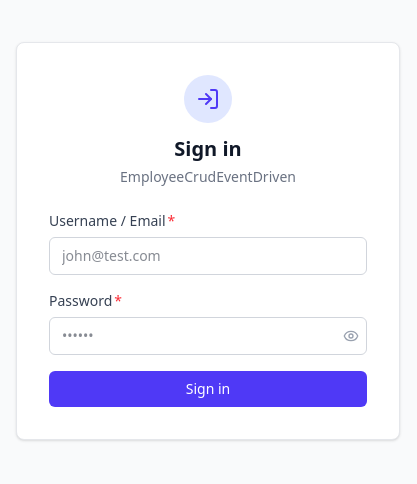
Scenario: LoginPage › shows error on invalid credentials
Type "wrong@test.com" into the field with placeholder "john@test.com".
click(208, 256); type("wrong@test.com")  # box [49,237,367,275]
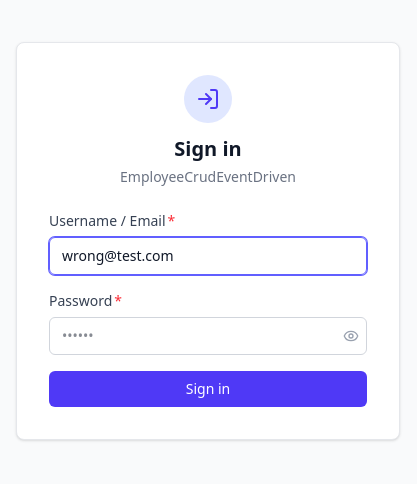
Type "wrongpass" into the password field with placeholder "••••••".
click(208, 336); type("wrongpass")  # box [49,317,367,355]
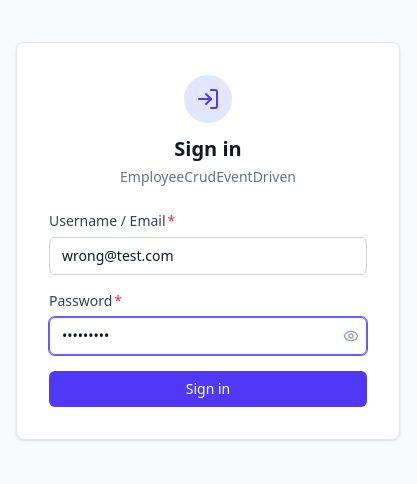
Click the button "Sign in".
click(208, 389)  # box [49,371,367,407]
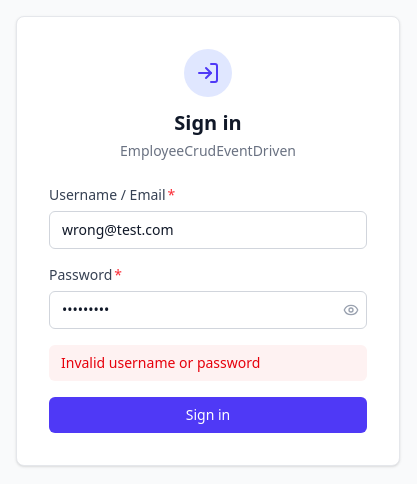
Expected: the text "Invalid username or password" is shown, [49,345,367,381]
